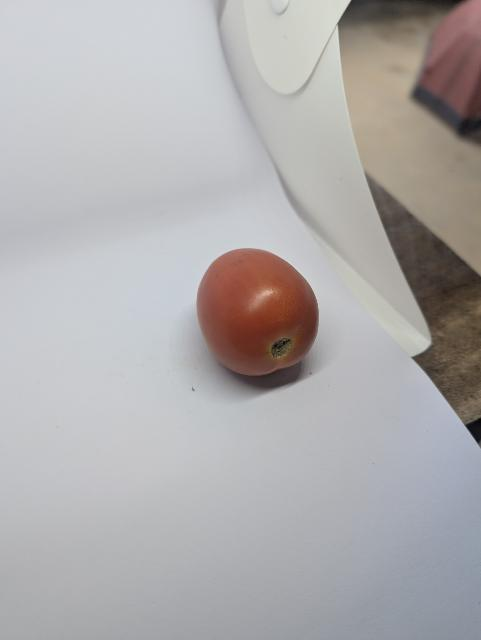red: (186, 243, 330, 401)
